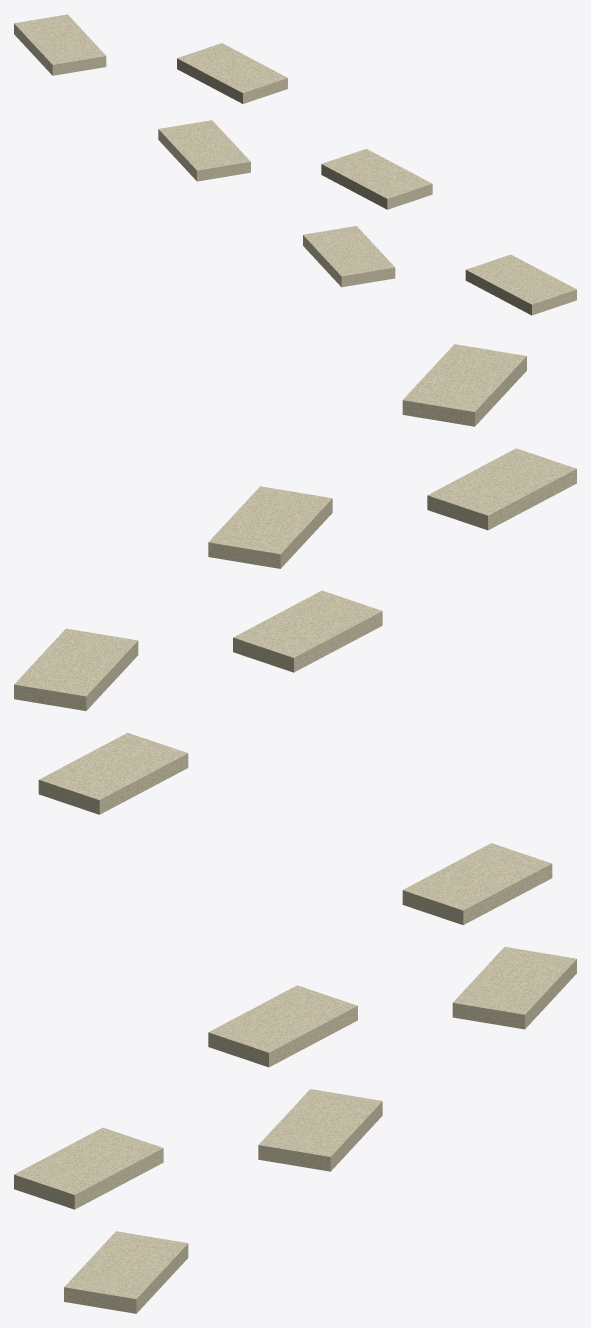
Rendered from footprint_trail.glb.
3 views of the same model, one above another, from view 1: azimuth 30°, elevation 25°; view 2: azimuth 150°, elevation 25°; view 3: azimuth 330°, elevation 25° (orthographic). The views are drawn at different scales.
Visible parts, largest first — view 1: print (×6); view 2: print (×6); view 3: print (×6).
Part boxes in pixels (x1=…): print (×6): x1=14, y1=14, x2=576, y2=315; print (×6): x1=14, y1=344, x2=576, y2=814; print (×6): x1=14, y1=843, x2=576, y2=1313.
Bounding box in the file's own units: 0.3915 × 0.025 × 1.74.
Materials: 1 (1 with a texture image).
